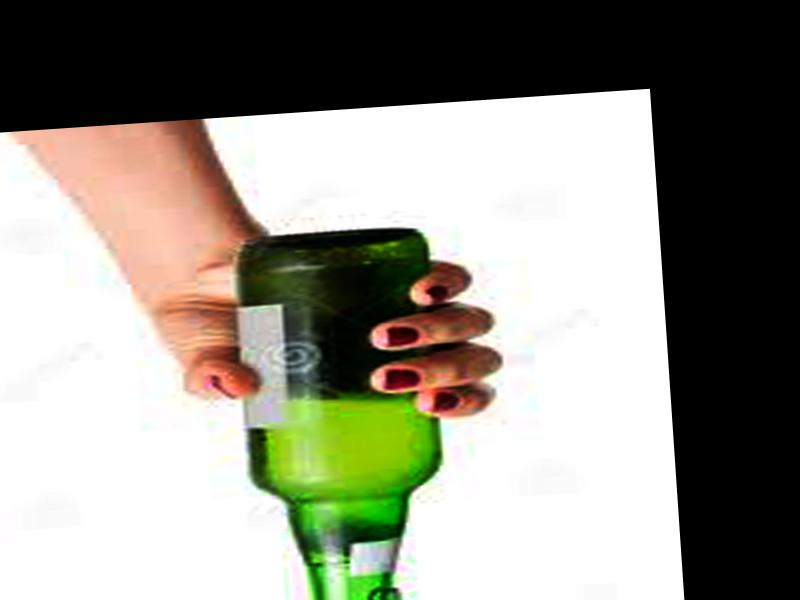Beer: (227, 225, 454, 600)
